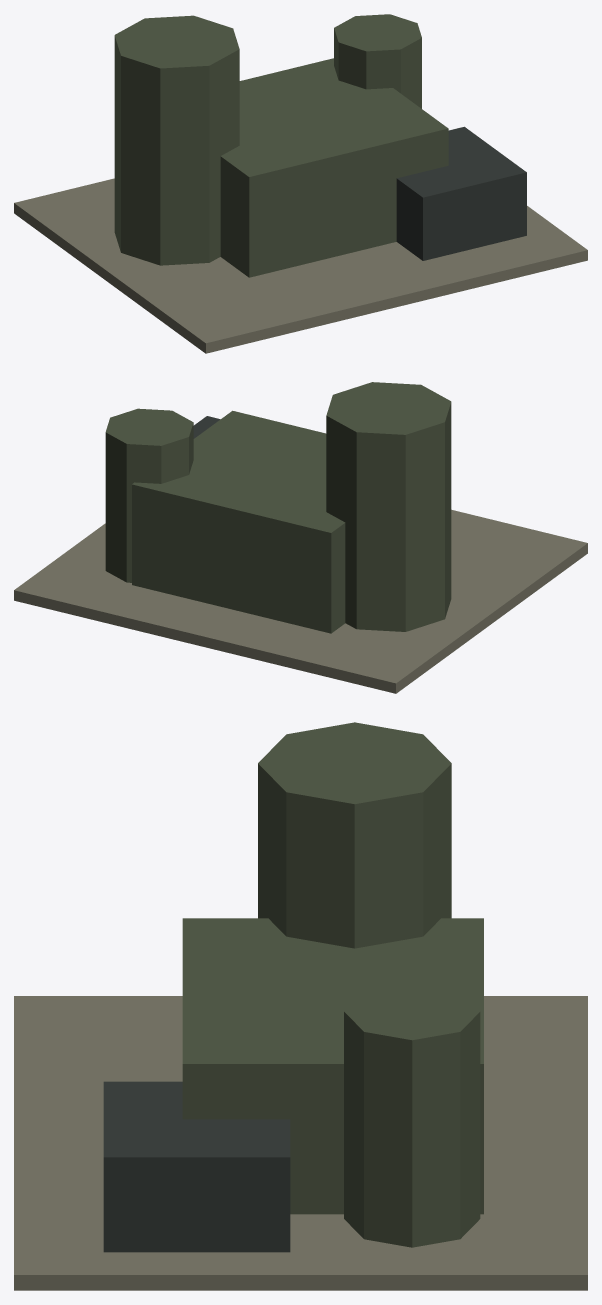
File: Bastion_Refinery_LOD1.obj
3 views of the same model, one above another, from view 1: azimuth 30°, elevation 25°; view 2: azimuth 150°, elevation 25°; view 3: azimuth 270°, elevation 25° (orthographic). The views are drawn at different scales.
Visible parts, largest first — view 1: Bastion_Refinery_LOD1; view 2: Bastion_Refinery_LOD1; view 3: Bastion_Refinery_LOD1.
Part boxes in pixels (x1,y1,x2,y2): Bastion_Refinery_LOD1: (14,14,587,353); Bastion_Refinery_LOD1: (14,382,587,693); Bastion_Refinery_LOD1: (14,722,587,1290).
Bounding box in the file's own units: 9.2 × 4.78 × 8.
Materials: 1 (1 with a texture image).
